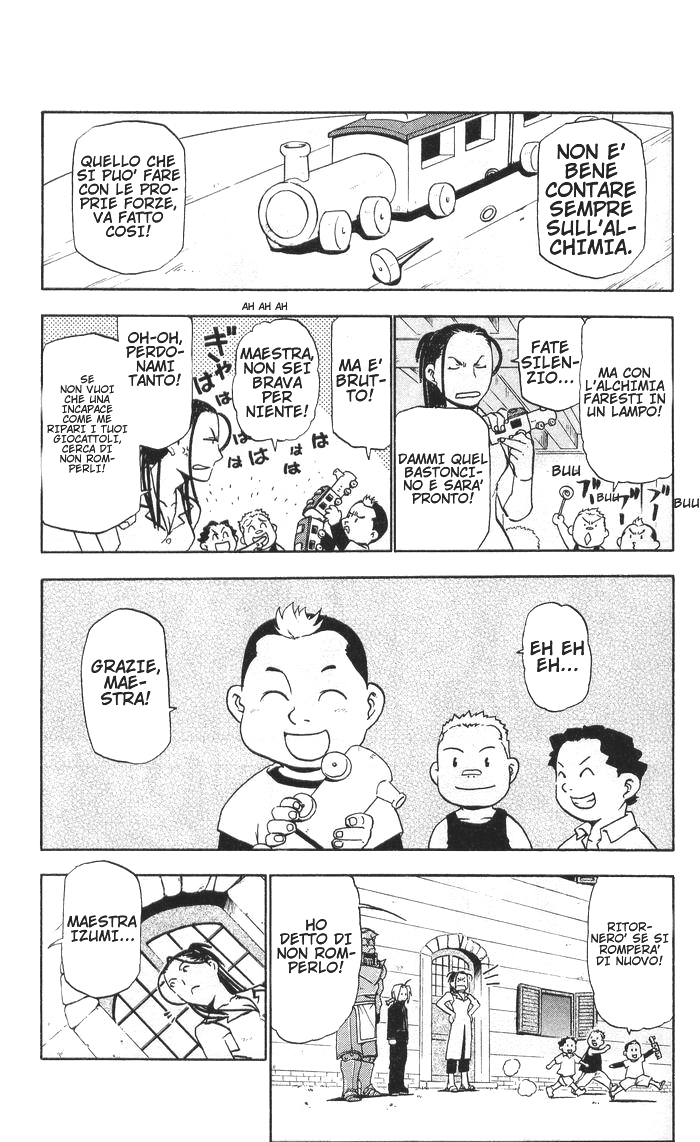Baloon: (36, 318, 191, 532), (538, 120, 647, 279), (70, 122, 184, 274), (580, 318, 673, 492), (262, 878, 359, 1044), (78, 609, 180, 762), (585, 874, 675, 1032), (394, 409, 492, 553), (231, 320, 317, 453), (59, 862, 138, 999), (331, 313, 392, 462), (522, 602, 594, 713), (508, 316, 585, 413)
Vignetta: (40, 574, 677, 848), (41, 111, 675, 294), (273, 874, 677, 1142), (40, 316, 392, 550), (394, 313, 675, 550), (40, 874, 270, 1060)
